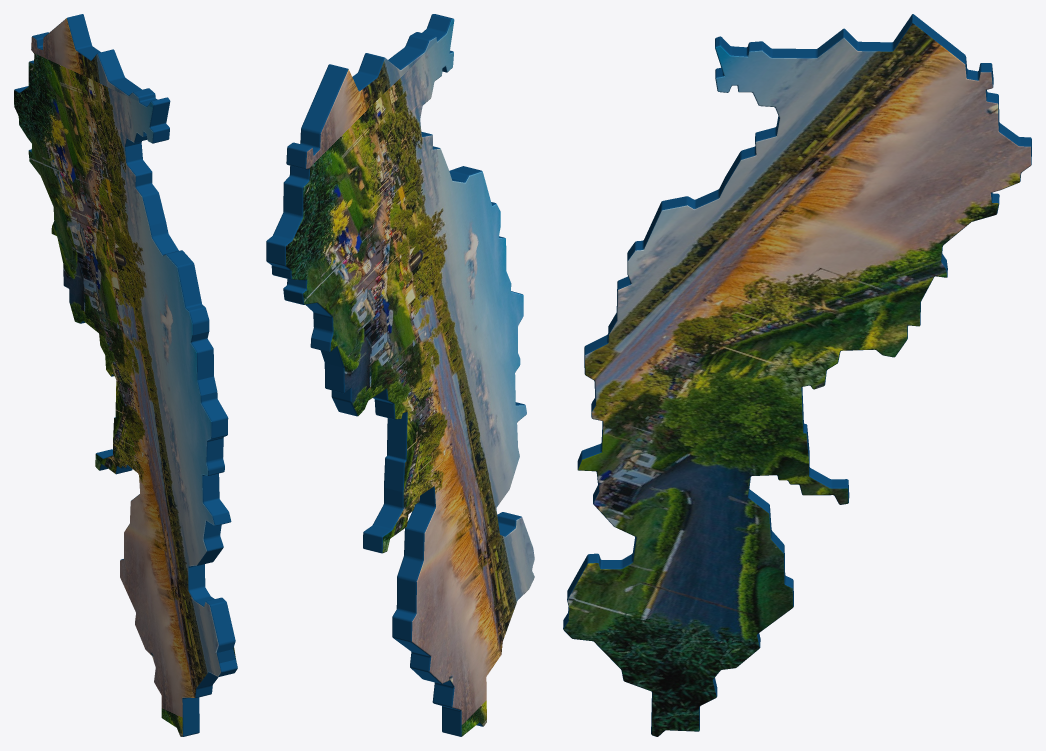
Rendered from Chattisgarh.glb.
3 views of the same model, side by side, from view 1: azimuth 30°, elevation 25°; view 2: azimuth 150°, elevation 25°; view 3: azimuth 270°, elevation 25° (orthographic). The views are drawn at different scales.
Parts seen in each view (by area): view 1: Object_24; view 2: Object_24; view 3: Object_24.
Boxes of the visible parts, x1=… form: Object_24: x1=14, y1=14, x2=237, y2=736; Object_24: x1=266, y1=14, x2=534, y2=736; Object_24: x1=563, y1=14, x2=1031, y2=736.
Size of the model in its own units: 0.035 by 1.02 by 0.6075.
1 material, 1 textured.
